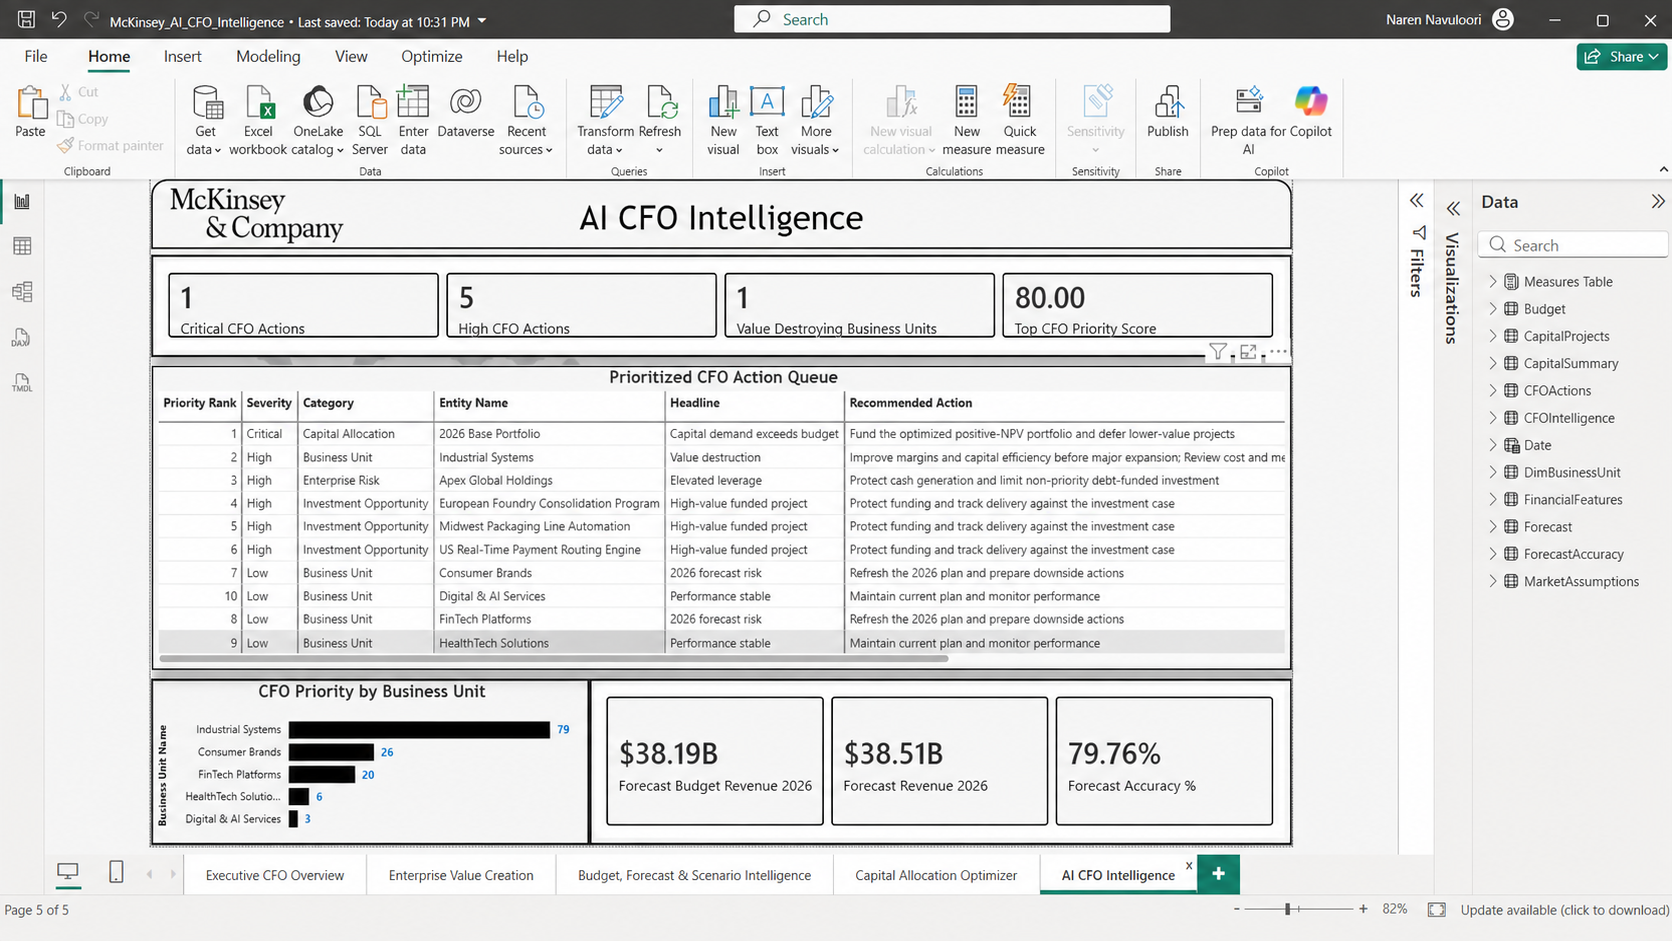

This screenshot's page, from the dashboard's own definition file:
{"tool":"powerbi","page":{"name":"AI CFO Intelligence","canvas":[1280,720],"ordinal":4},"visuals":[{"type":"shape","box":[0,0,1280.3,75.8],"z":0},{"type":"image","box":[14,5.1,207.4,66.2],"z":1000},{"type":"cardVisual","fields":{"Data":["Measures Table.Critical CFO Actions","Measures Table.High CFO Actions","Measures Table.Value Destroying Business Units","Measures Table.Top CFO Priority Score"]},"box":[0,81.4,1280.3,110.7],"z":2000},{"type":"barChart","title":"CFO Priority by Business Unit","fields":{"Category":["CFOIntelligence.business_unit_name"],"Y":["Sum(CFOIntelligence.cfo_priority_score)"]},"box":[0,539.4,491.8,180.2],"z":3000},{"type":"tableEx","title":"Prioritized CFO Action Queue","fields":{"Values":["Sum(CFOActions.priority_rank)","CFOActions.severity","CFOActions.category","CFOActions.entity_name","CFOActions.headline","CFOActions.recommended_action"]},"box":[0,200.2,1280.3,330.4],"z":4000},{"type":"cardVisual","fields":{"Data":["Measures Table.Forecast Budget Revenue 2026","Measures Table.Forecast Revenue 2026","Measures Table.Forecast Accuracy %"]},"box":[491.8,539.4,788.4,180.2],"z":5000}]}

Visuals, with their boxes on the page's 1280x720 design canvas (x1, y1, x2, y2). These are canvas units, not pixel positions in the 1672x941 screenshot, which may show the page scaled, cropped or inside an application window:
shape: (x1=0, y1=0, x2=1280, y2=76)
image: (x1=14, y1=5, x2=221, y2=71)
cardVisual - Measures Table.Critical CFO Actions x Measures Table.High CFO Actions: (x1=0, y1=81, x2=1280, y2=192)
"CFO Priority by Business Unit" barChart: (x1=0, y1=539, x2=492, y2=720)
"Prioritized CFO Action Queue" tableEx: (x1=0, y1=200, x2=1280, y2=531)
cardVisual - Measures Table.Forecast Budget Revenue 2026 x Measures Table.Forecast Revenue 2026: (x1=492, y1=539, x2=1280, y2=720)
